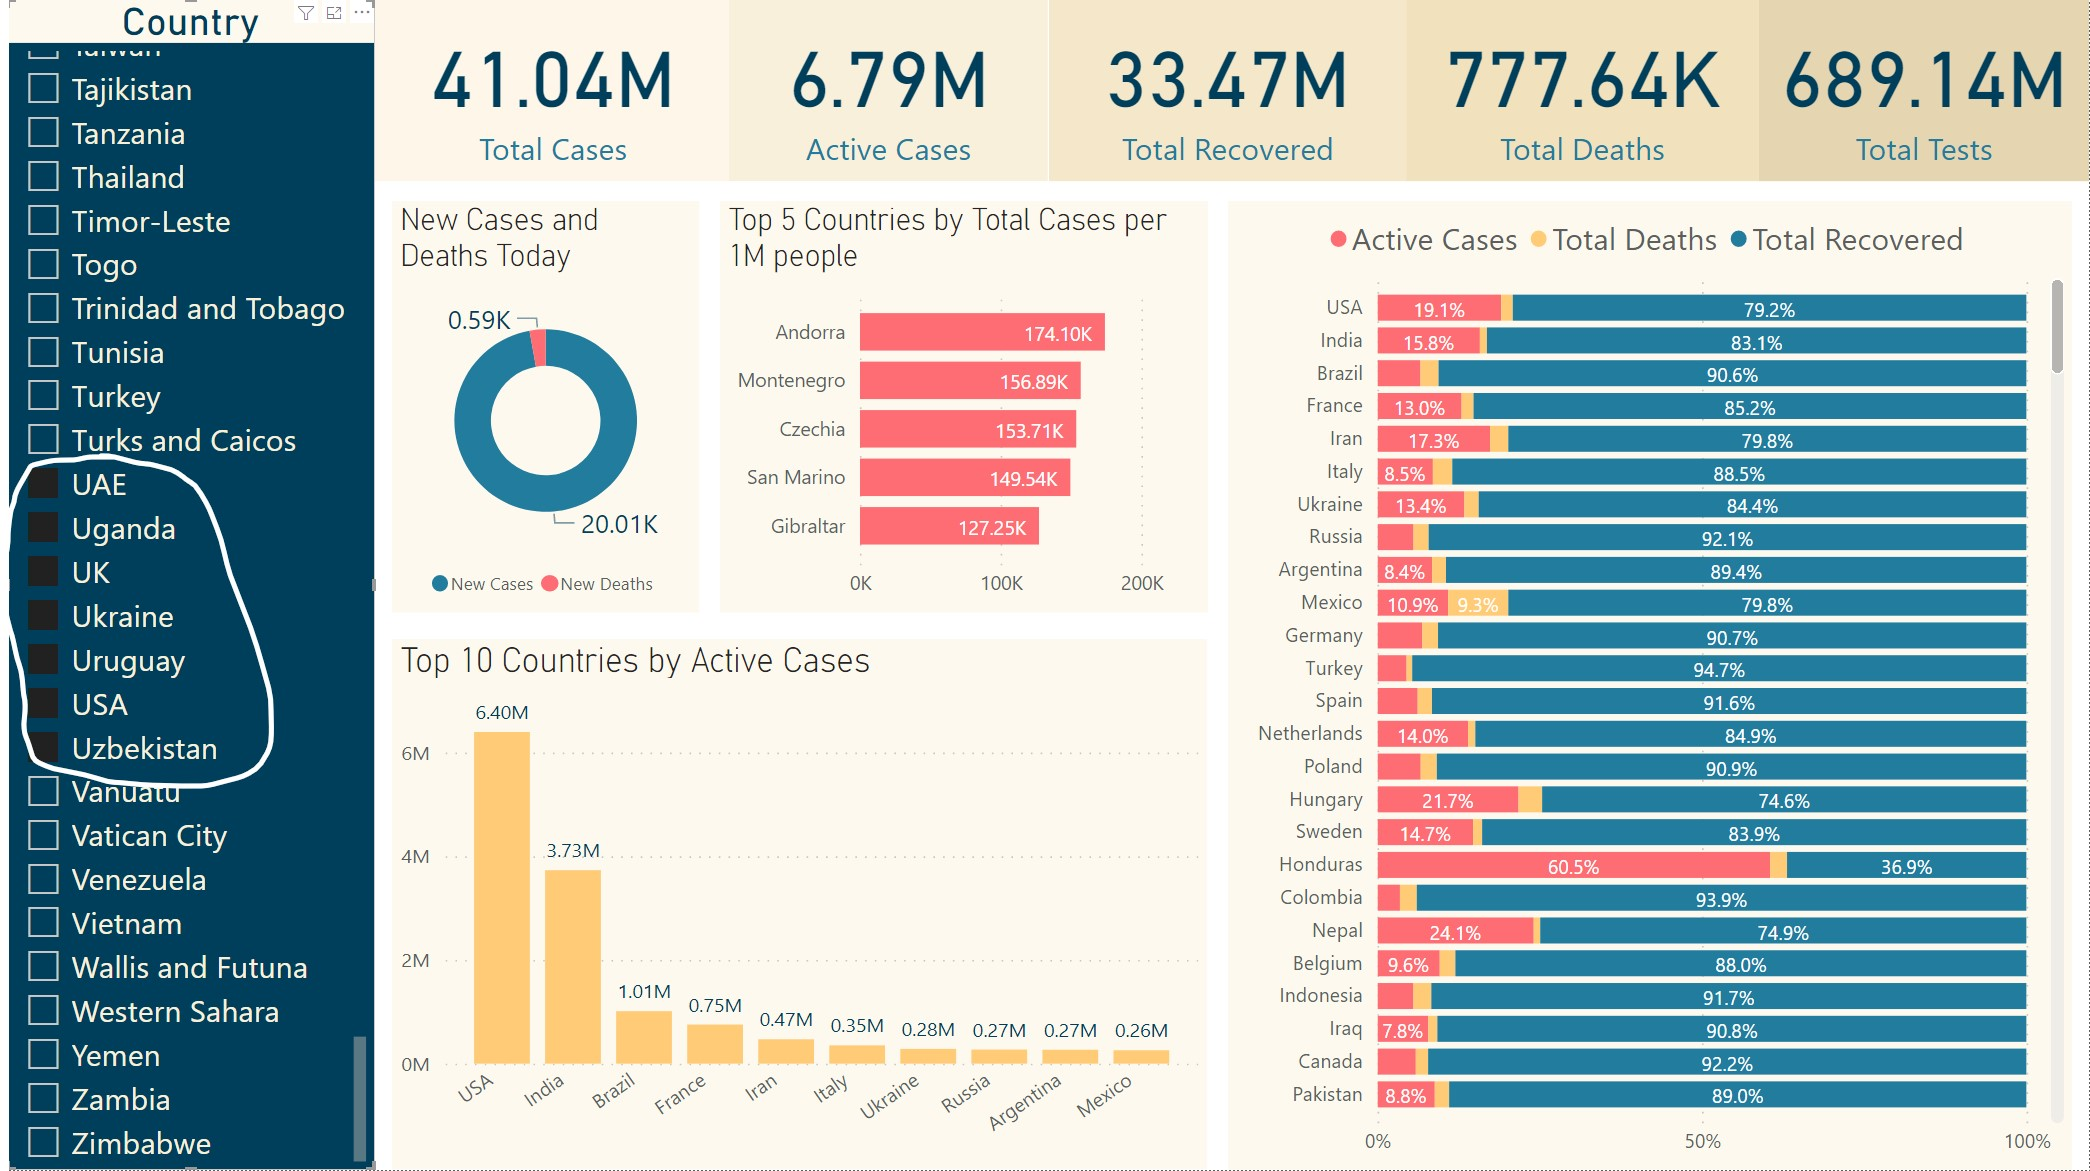

This screenshot's page, from the dashboard's own definition file:
{"tool":"powerbi","page":{"name":"Page 1","canvas":[1280,720],"ordinal":0},"visuals":[{"type":"slicer","title":"Country","fields":{"Values":["Table 1.Country,Other"]},"box":[0,0,226.2,719.7],"z":0},{"type":"card","title":"Total Cases","fields":{"Values":["Sum(Table 1.TotalCases)"]},"box":[226.2,0,218.6,112.1],"z":1000},{"type":"card","title":"Total Cases","fields":{"Values":["Sum(Table 1.Active Cases)"]},"box":[444.1,0,196.3,111.8],"z":2000},{"type":"card","title":"Total Cases","fields":{"Values":["Sum(Table 1.Total Deaths)"]},"box":[860,0,217.1,111.8],"z":3000},{"type":"card","title":"Total Cases","fields":{"Values":["Sum(Table 1.Total Recovered)"]},"box":[640.4,0,219.5,111.8],"z":4000},{"type":"hundredPercentStackedBarChart","fields":{"Category":["Table 1.Country,Other"],"Y":["Sum(Table 1.Active Cases)","Sum(Table 1.Total Deaths)","Sum(Table 1.Total Recovered)"]},"box":[750.6,124.3,519.5,595.7],"z":5000},{"type":"donutChart","title":"New Cases and Deaths Today","fields":{"Y":["Sum(Table 1.New Cases)","Sum(Table 1.New Deaths)"]},"box":[236.9,124.3,188.9,252.7],"z":6000},{"type":"columnChart","title":"Top 10 Countries by Active Cases","fields":{"Category":["Table 1.Country,Other"],"Y":["Sum(Table 1.Active Cases)"]},"box":[236.9,393.5,501.2,326.4],"z":7000},{"type":"clusteredBarChart","title":"Top 5 Countries by Total Cases per 1M people","fields":{"Category":["Table 1.Country,Other"],"Y":["Sum(Table 1.Total Cases/1M pop)"]},"box":[438.3,124.3,299.9,252.7],"z":8000},{"type":"card","title":"Total Cases","fields":{"Values":["Sum(Table 1.Total Tests)"]},"box":[1077,0,203,111.8],"z":9000}]}

Visuals, with their boxes on the page's 1280x720 design canvas (x1, y1, x2, y2). These are canvas units, not pixel positions in the 2090x1171 screenshot, which may show the page scaled, cropped or inside an application window:
"Country" slicer: [0,0,226,720]
"Total Cases" card: [226,0,445,112]
"Total Cases" card: [444,0,640,112]
"Total Cases" card: [860,0,1077,112]
"Total Cases" card: [640,0,860,112]
hundredPercentStackedBarChart - Table 1.Country,Other x Sum(Table 1.Active Cases): [751,124,1270,720]
"New Cases and Deaths Today" donutChart: [237,124,426,377]
"Top 10 Countries by Active Cases" columnChart: [237,394,738,720]
"Top 5 Countries by Total Cases per 1M people" clusteredBarChart: [438,124,738,377]
"Total Cases" card: [1077,0,1280,112]
